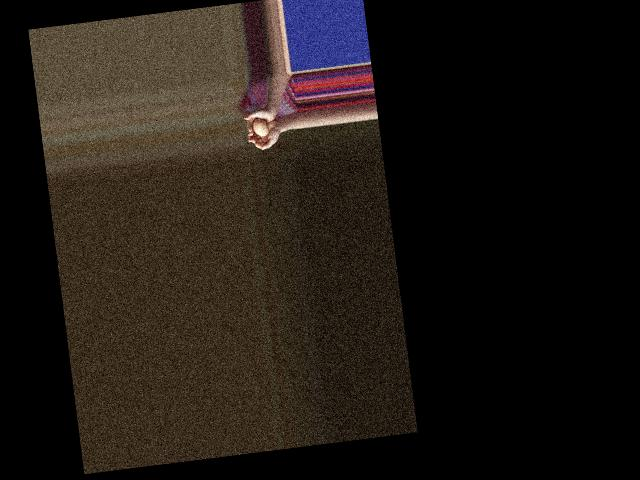egg: (251, 116, 268, 137)
